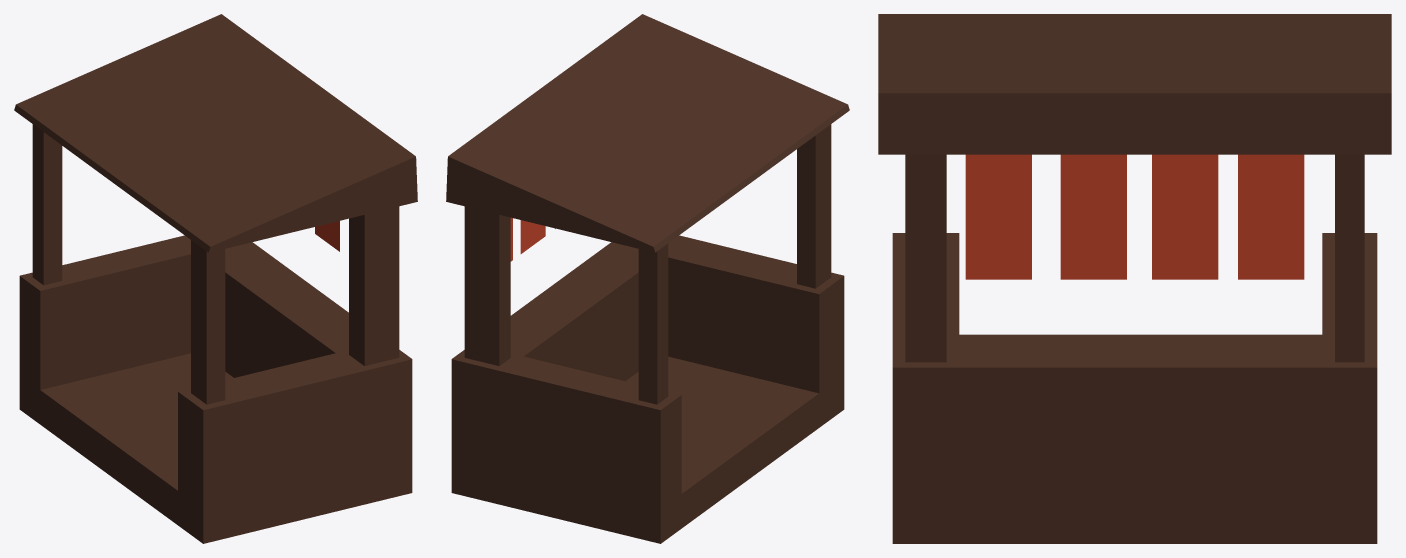
The model's file is stand_1.fbx.
3 views of the same model, side by side, from view 1: azimuth 30°, elevation 25°; view 2: azimuth 150°, elevation 25°; view 3: azimuth 270°, elevation 25° (orthographic). The views are drawn at different scales.
Parts seen in each view (by area): view 1: stand_1; view 2: stand_1; view 3: stand_1.
Part boxes in pixels (bbox=[...]): stand_1: bbox=[14, 14, 417, 543]; stand_1: bbox=[446, 14, 849, 543]; stand_1: bbox=[878, 14, 1391, 543].
Size of the model in its own units: 262 by 163 by 253.
